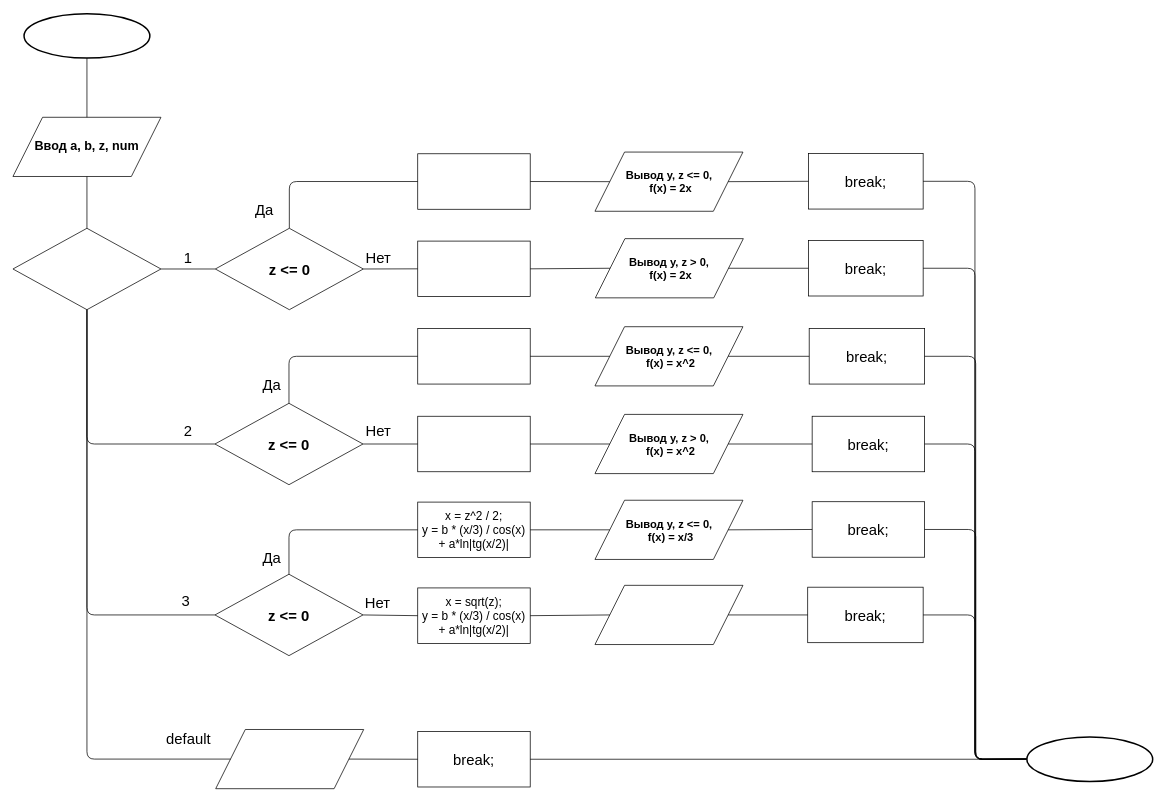
The diagram is 1166 pixels wide and 801 high, and some of its shapes have lost their labels. The centre of each missing label's shape, as x and y in pixels:
switch(num): (86,269)
x = sqrt(z); y = b * 2x / cos(x) + a*ln|tg(x/2)|: (473,268)
x = sqrt(z); y = b * x^2 / cos(x) + a*ln|tg(x/2)|: (473,444)
x = z^2 / 2; y = b * 2x / cos(x) + a*ln|tg(x/2)|: (473,181)
x = z^2 / 2; y = b * x^2 / cos(x) + a*ln|tg(x/2)|: (473,356)
Вывод "Неправильный ввод": (289,759)
Вывод y, z > 0, f(x) = x/3: (668,615)
Конец: (1089,759)
Начало: (86,35)
